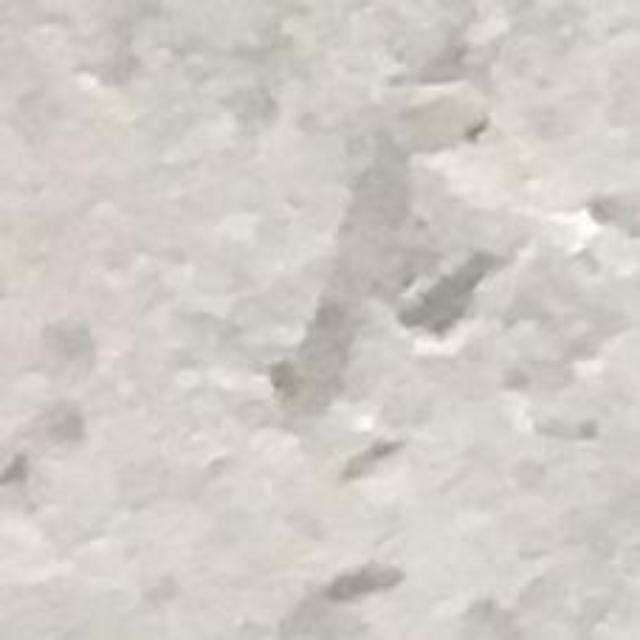peeling plaster: (268, 116, 504, 434)
